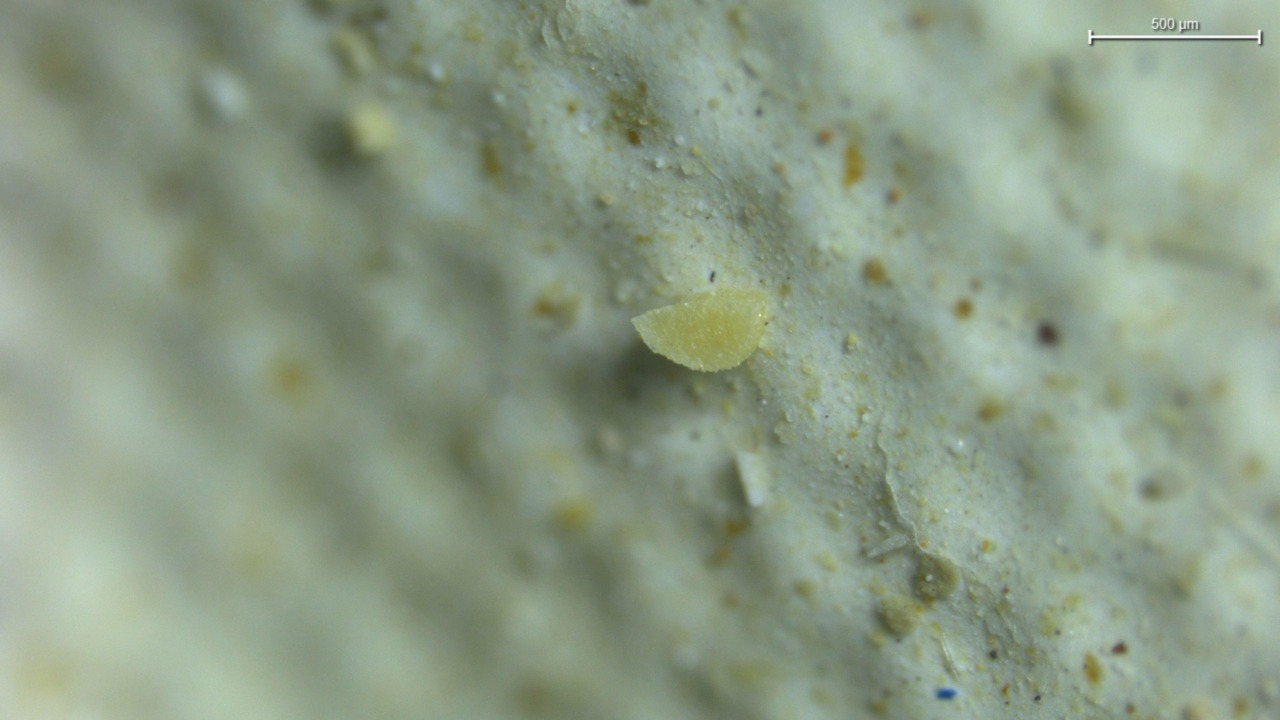microplastic_fragment: (632, 288, 768, 372)
